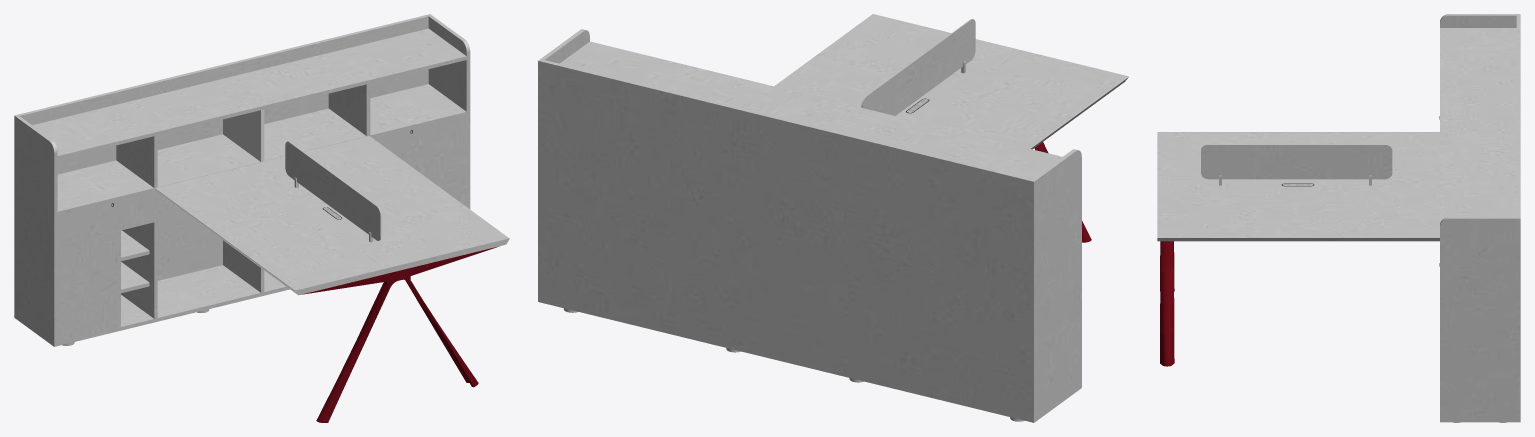
File: Office_Desk_2.glb
3 views of the same model, side by side, from view 1: azimuth 30°, elevation 25°; view 2: azimuth 150°, elevation 25°; view 3: azimuth 270°, elevation 25° (orthographic). The views are drawn at different scales.
Parts seen in each view (by area): view 1: workstation05_parts_.004, workstation05_parts_.011, workstation05_parts_, workstation05_parts_.007, workstation05_parts_.002, workstation05_parts_.006, workstation05_parts_.009, workstation05_parts_.003, workstation05_parts_.001, workstation05_parts_.016, workstation05_parts_.021, workstation05_parts_.012 (+4 smaller); view 2: workstation05_parts_, workstation05_parts_.004, workstation05_parts_.011, workstation05_parts_.002, workstation05_parts_.016, workstation05_parts_.001; view 3: workstation05_parts_.004, workstation05_parts_.002, workstation05_parts_.011, workstation05_parts_.016, workstation05_parts_, workstation05_parts_.021, workstation05_parts_.001.
Boxes of the visible parts, x1=… form: workstation05_parts_.004: x1=155, y1=136, x2=509, y2=295; workstation05_parts_.011: x1=32, y1=28, x2=466, y2=159; workstation05_parts_: x1=14, y1=14, x2=431, y2=314; workstation05_parts_.007: x1=57, y1=84, x2=466, y2=214; workstation05_parts_.002: x1=16, y1=15, x2=470, y2=343; workstation05_parts_.006: x1=57, y1=146, x2=466, y2=342; workstation05_parts_.009: x1=57, y1=115, x2=466, y2=245; workstation05_parts_.003: x1=116, y1=83, x2=370, y2=318; workstation05_parts_.001: x1=14, y1=265, x2=289, y2=346; workstation05_parts_.016: x1=285, y1=141, x2=381, y2=240; workstation05_parts_.021: x1=316, y1=277, x2=478, y2=422; workstation05_parts_.012: x1=223, y1=109, x2=264, y2=161; workstation05_parts_: x1=538, y1=59, x2=1036, y2=418; workstation05_parts_.004: x1=774, y1=14, x2=1128, y2=149; workstation05_parts_.011: x1=560, y1=41, x2=1062, y2=178; workstation05_parts_.002: x1=541, y1=29, x2=1081, y2=416; workstation05_parts_.016: x1=861, y1=19, x2=975, y2=115; workstation05_parts_.001: x1=538, y1=297, x2=1081, y2=422; workstation05_parts_.004: x1=1157, y1=132, x2=1439, y2=241; workstation05_parts_.002: x1=1440, y1=14, x2=1516, y2=418; workstation05_parts_.011: x1=1440, y1=28, x2=1516, y2=223; workstation05_parts_.016: x1=1201, y1=144, x2=1392, y2=179; workstation05_parts_: x1=1516, y1=14, x2=1520, y2=418; workstation05_parts_.021: x1=1160, y1=241, x2=1174, y2=366; workstation05_parts_.001: x1=1440, y1=418, x2=1520, y2=422.
Bounding box in the file's own units: 2.4 × 1.15 × 1.8.
6 materials, 4 textured.
